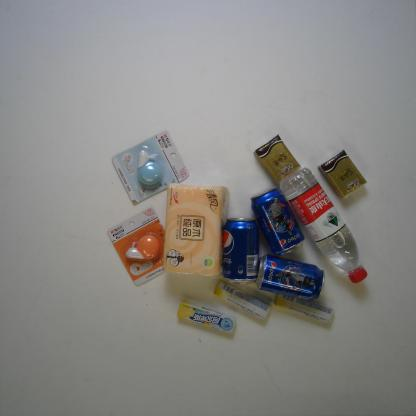Candy: (211, 281, 270, 321), (272, 292, 335, 324), (176, 301, 236, 334)
Drink: (277, 167, 369, 285), (250, 186, 306, 258), (253, 254, 326, 301), (223, 218, 256, 286)
Stationery: (111, 130, 189, 204), (106, 208, 166, 286)
Tissue: (161, 184, 230, 278), (253, 133, 301, 185), (318, 151, 367, 199)
